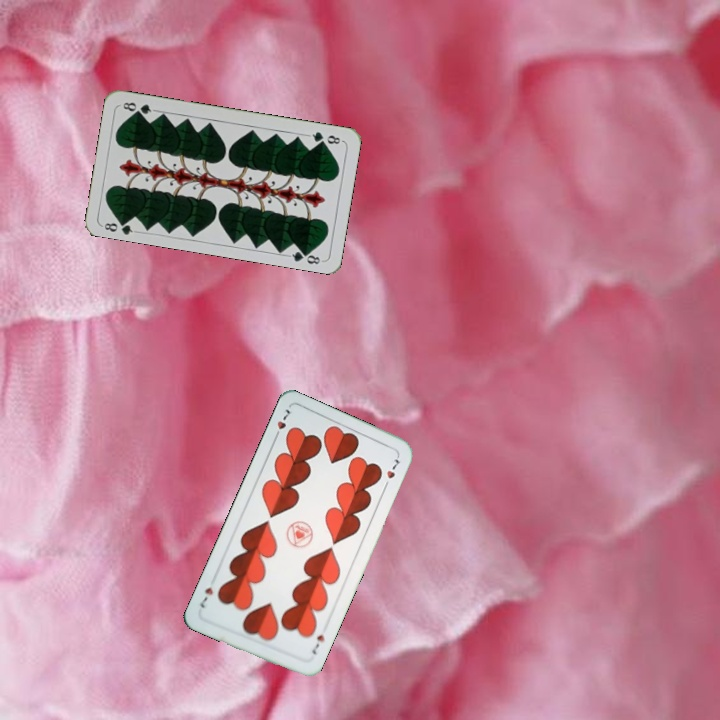G8: (99, 215, 139, 237), (304, 127, 345, 147)
H7: (270, 405, 293, 443), (307, 630, 327, 657)
